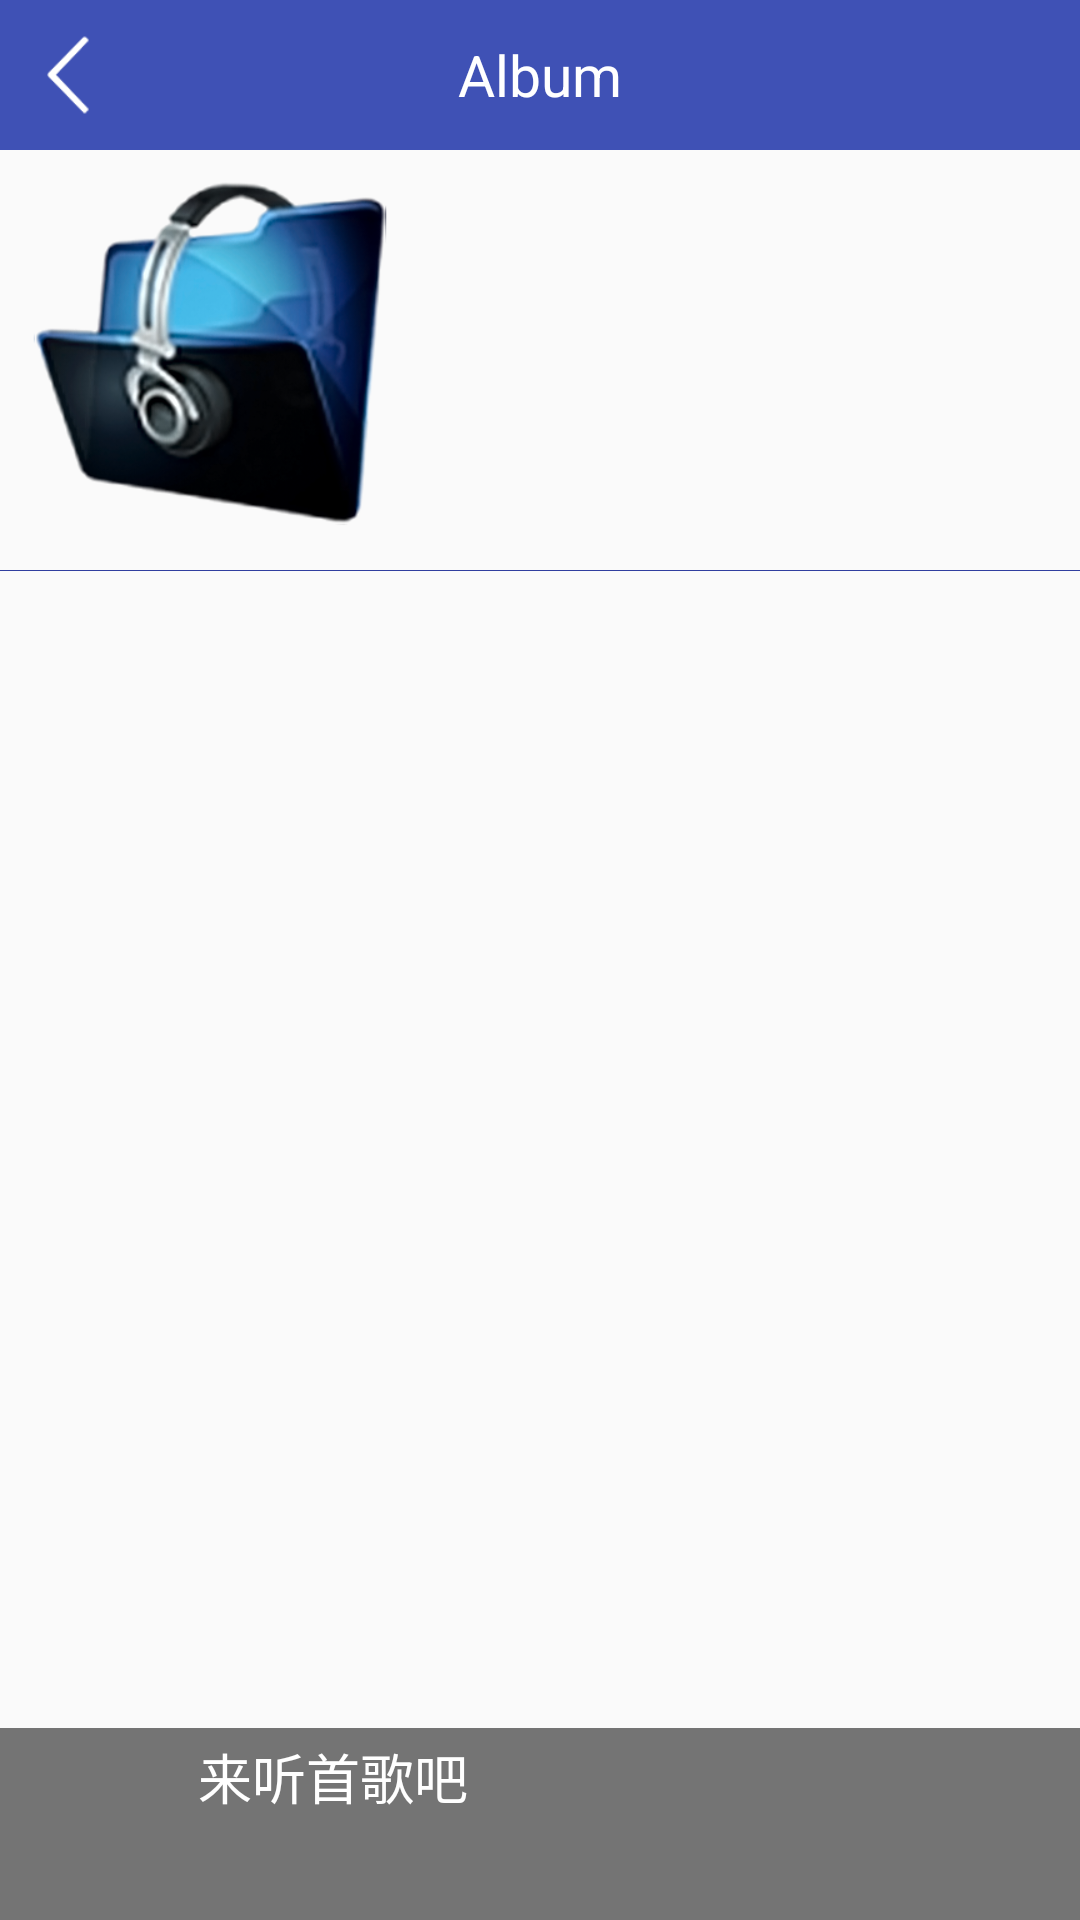

Icon bounding boxes for this 1080px×1920px phone screenshot, format (x1, y1, x2, y2):
back: (47, 36, 89, 114)
